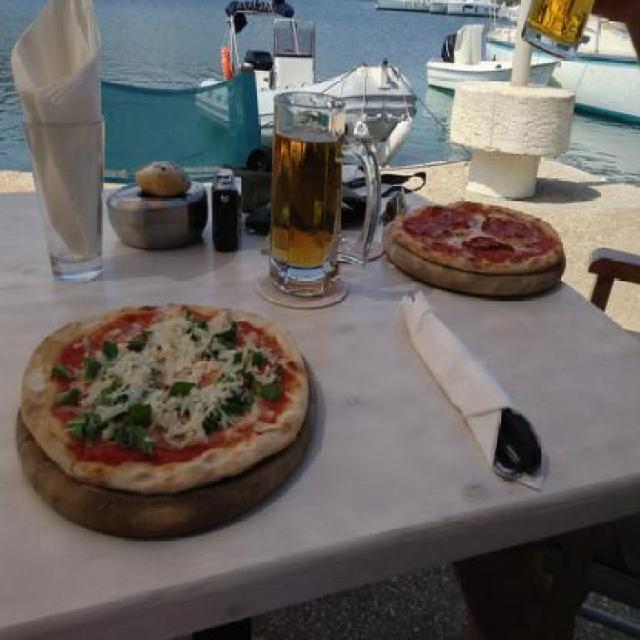ship: (193, 4, 416, 167), (422, 14, 560, 98)
